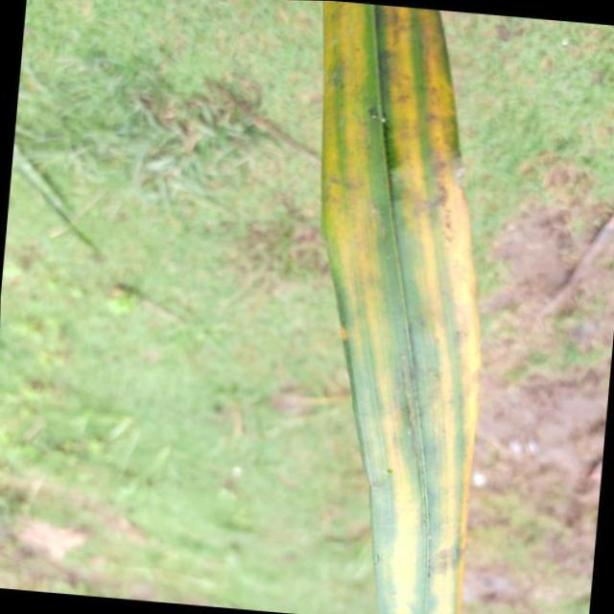Megnesium: (317, 0, 486, 614)
